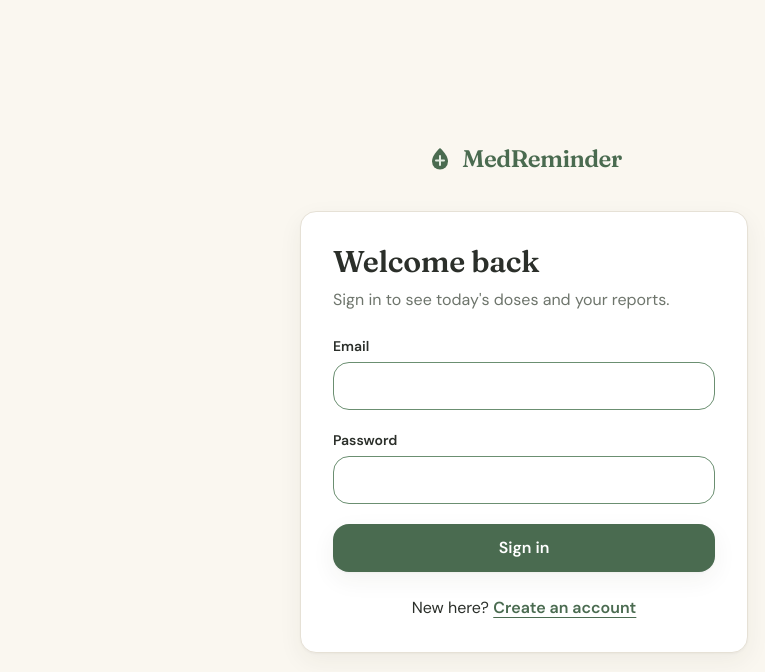
LoginPage › goes back to the page you were trying to reach
The width and height of the screenshot is (765, 672).
Type "  asha@example.com " into the field labelled "Email" at (524, 386), box x1=333 y1=362 x2=715 y2=410
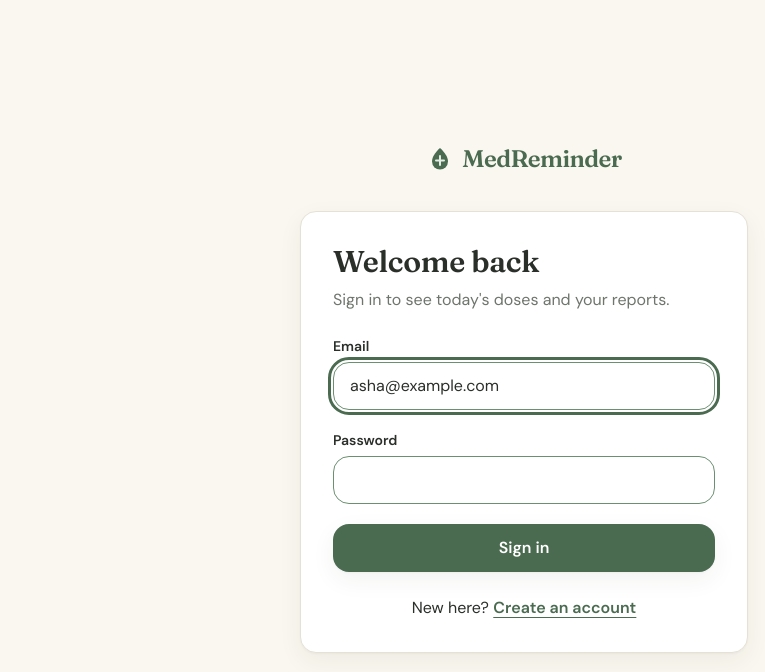
Type "secret-pass" into the password field labelled "Password" at (524, 480), box x1=333 y1=456 x2=715 y2=504
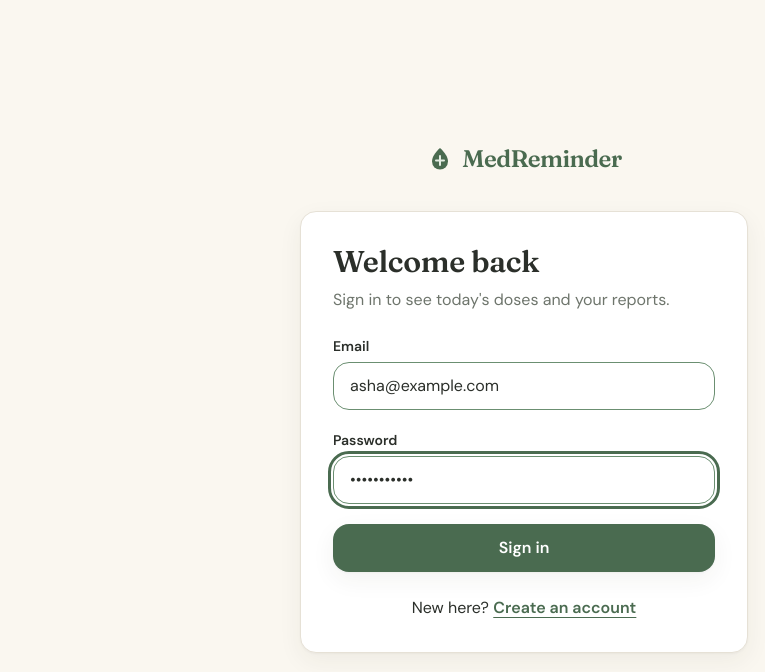
Click the button "Sign in" at (524, 548), box x1=333 y1=524 x2=715 y2=572
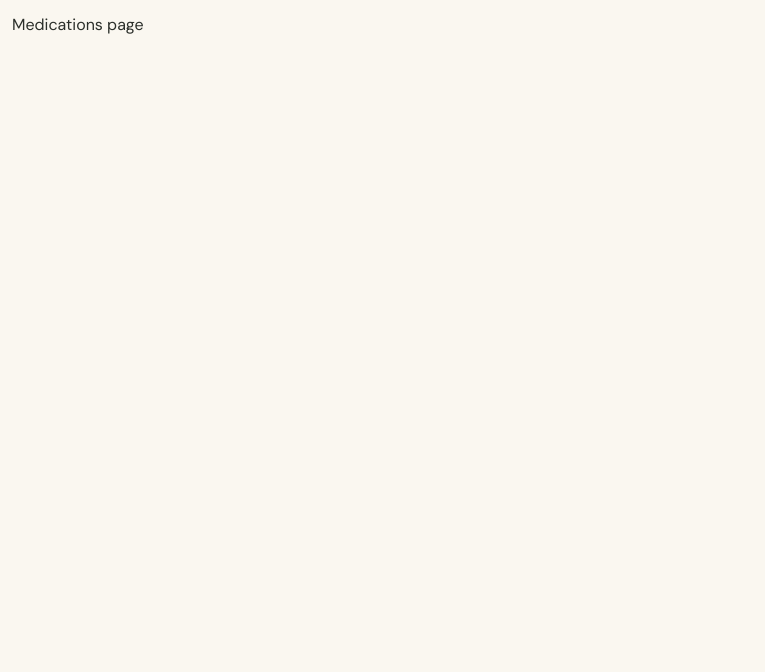
Check: the text "Medications page" is shown, box x1=12 y1=14 x2=144 y2=35
